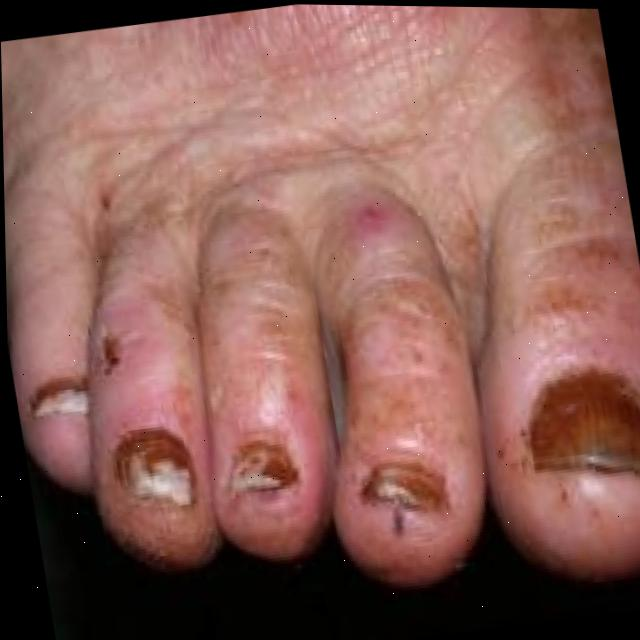Eczema: (75, 143, 640, 459)
